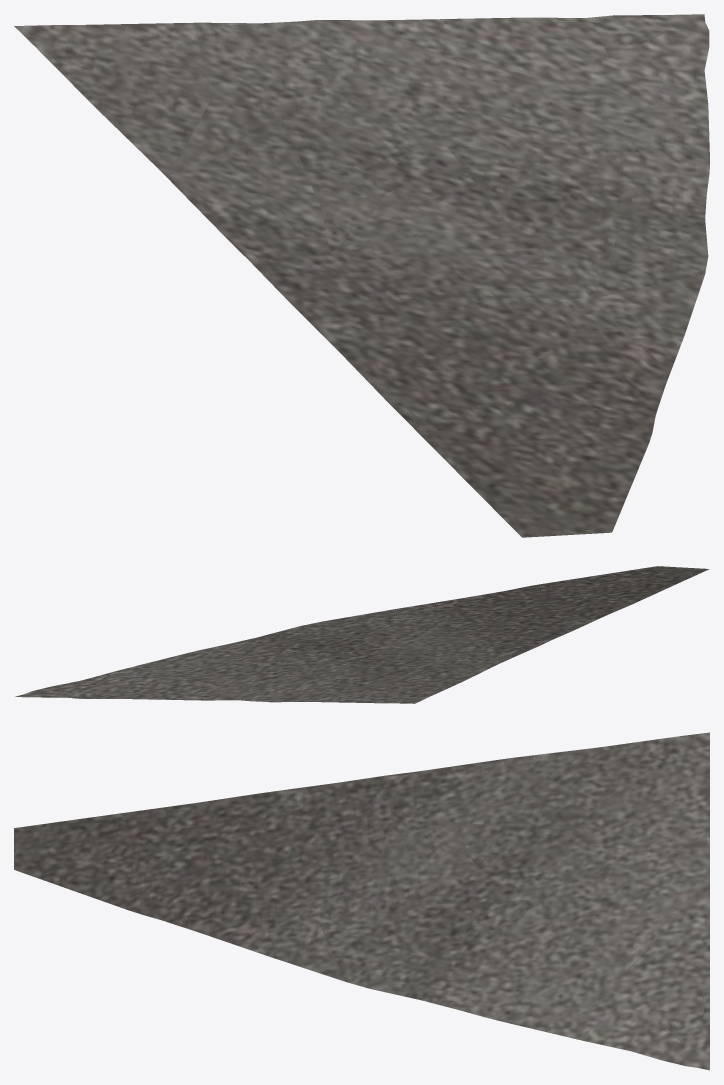
3 views of the same model, one above another, from view 1: azimuth 30°, elevation 25°; view 2: azimuth 150°, elevation 25°; view 3: azimuth 270°, elevation 25° (orthographic). The views are drawn at different scales.
Bounding box in the file's own units: 1.31 × 0.2849 × 1.67.
Materials: 1 (1 with a texture image).
